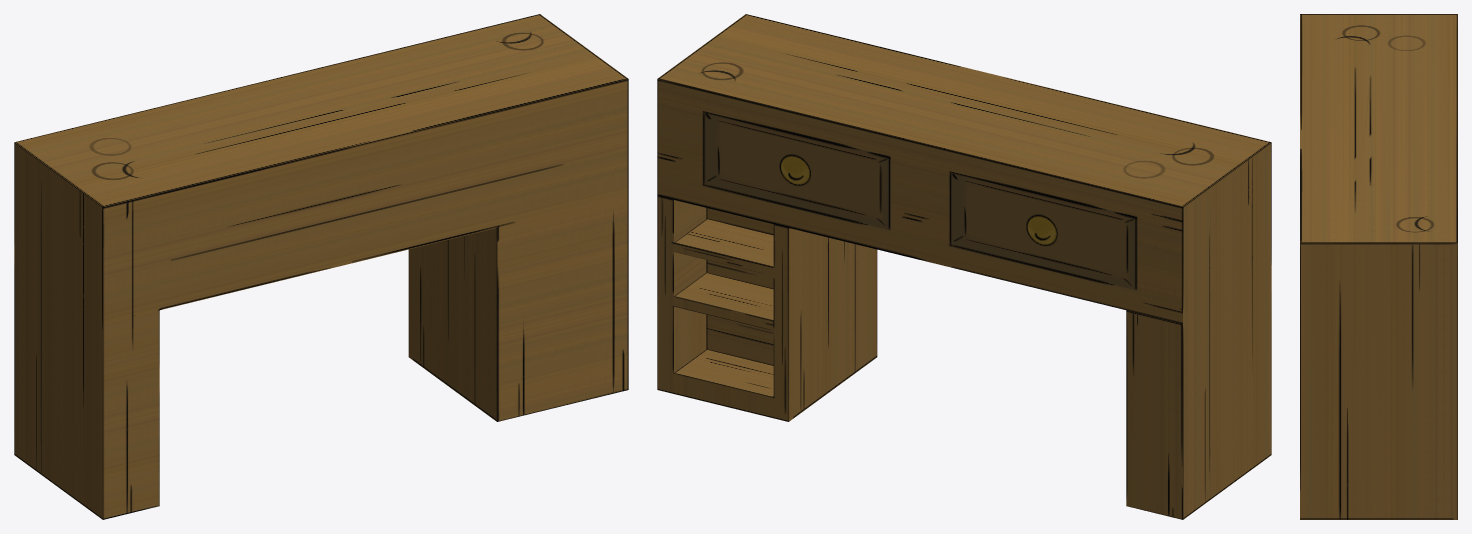
The model's file is desk1.fbx.
The picture shows the model from 3 angles, left to right: view 1: azimuth 30°, elevation 25°; view 2: azimuth 150°, elevation 25°; view 3: azimuth 270°, elevation 25°; orthographic projection. The views are drawn at different scales.
Parts seen in each view (by area): view 1: desk; view 2: desk; view 3: desk.
Part boxes in pixels (left/top/right/bottom): desk: left=14, top=14, right=628, bottom=519; desk: left=657, top=14, right=1271, bottom=519; desk: left=1300, top=14, right=1457, bottom=519.
Bounding box in the file's own units: 1.99 × 1.13 × 0.582.
